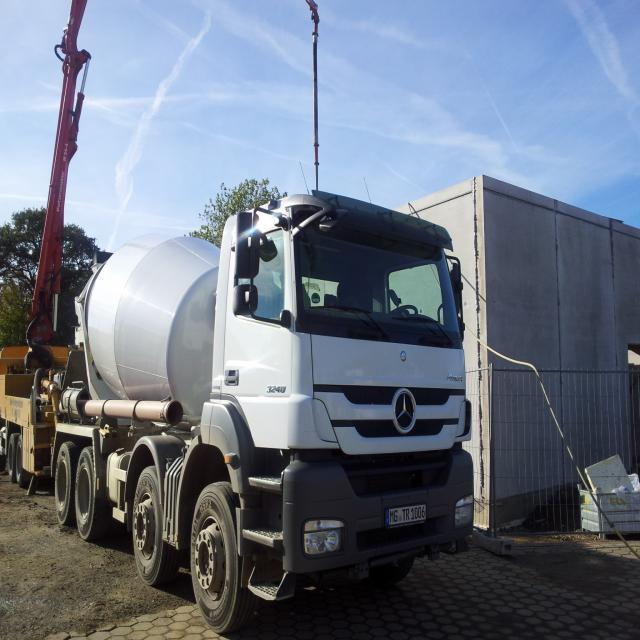Mixer Truck: (51, 191, 474, 633)
